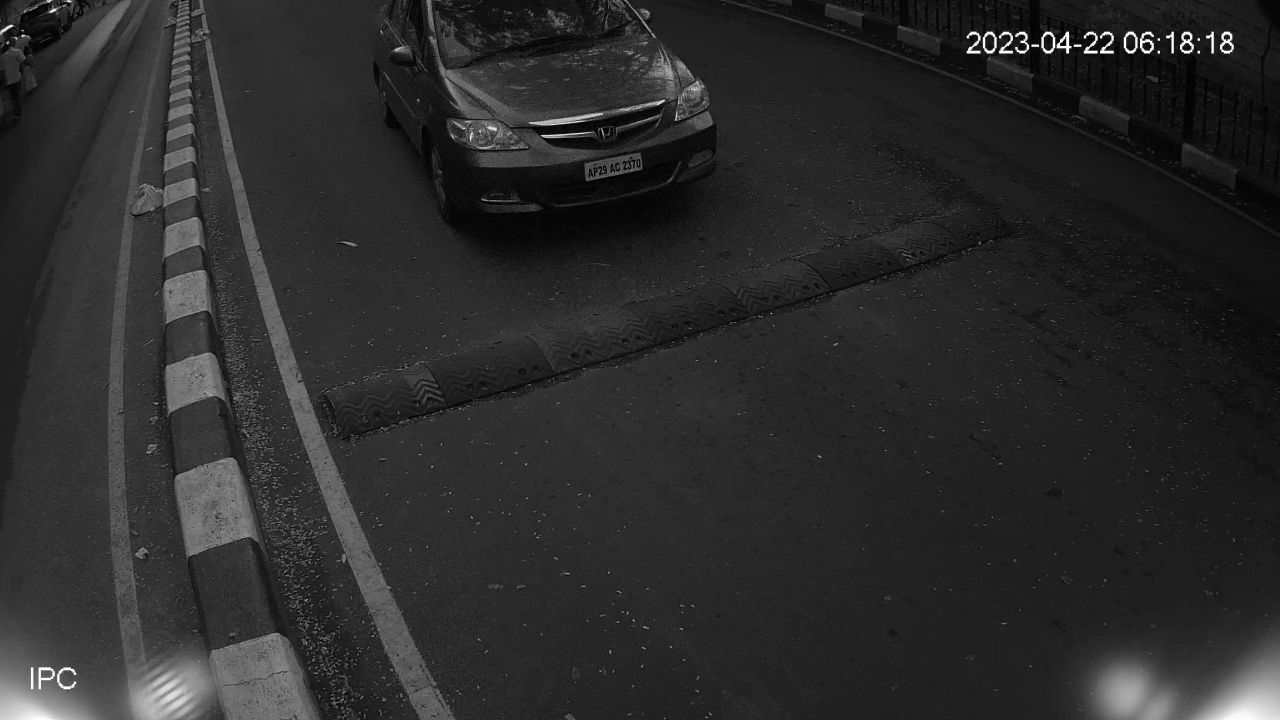license_plate: (579, 148, 648, 187)
